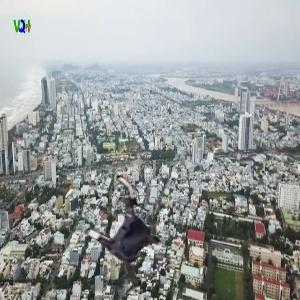drone: (70, 179, 188, 297)
